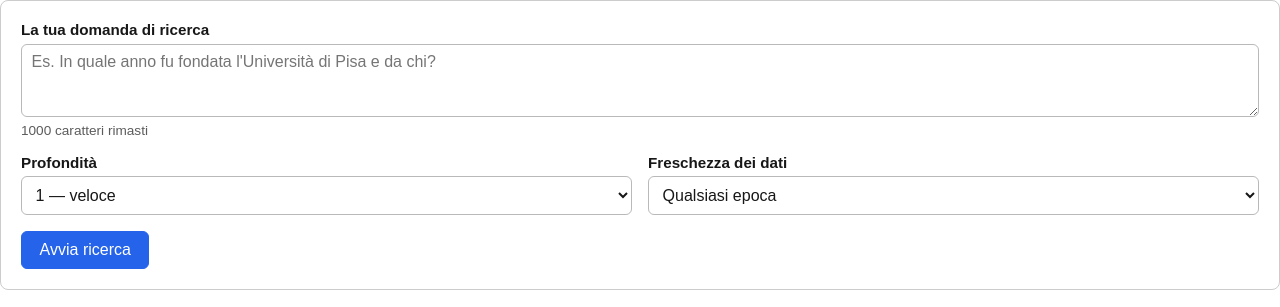
Test case: ResearchForm › domanda corta → errore inline (aria-live) e nessun submit
What coordinates should you click on to do the following:
click the button "Avvia ricerca"
I would click on:
 (85, 250)
Its box is [21,231,150,269].
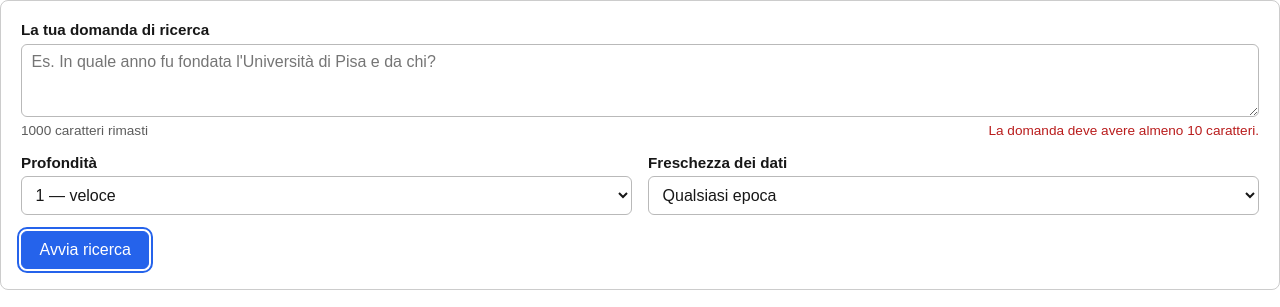
Now the text "La domanda deve avere almeno 10 caratteri." is shown, box [988,123,1259,138]
